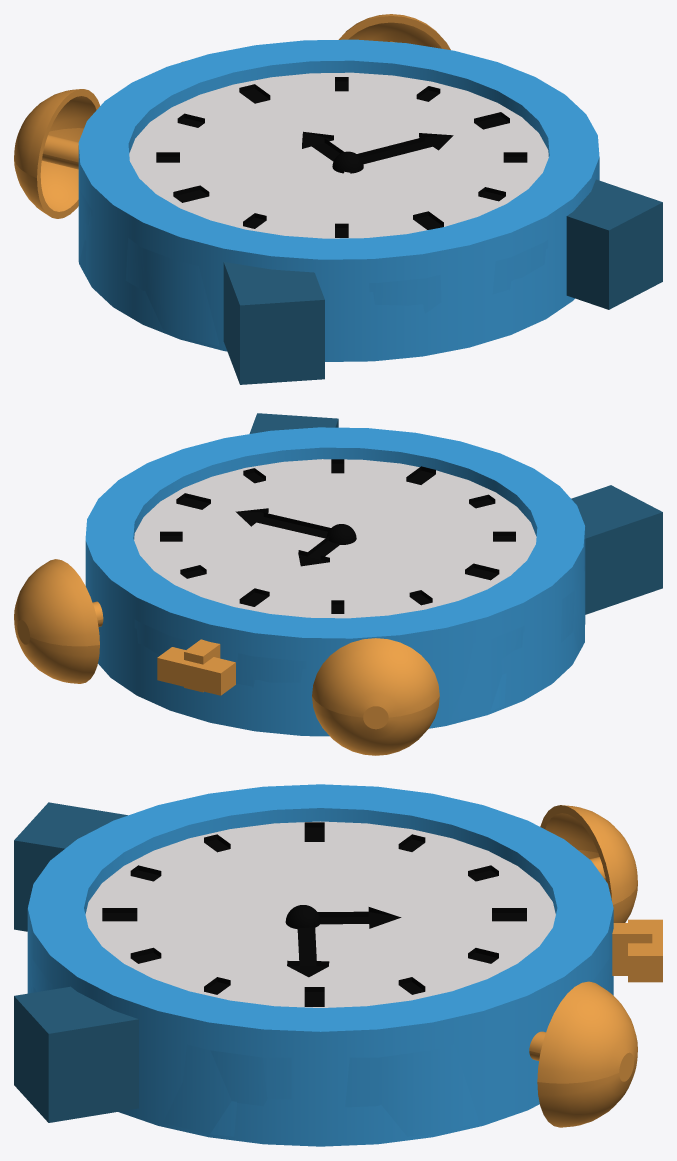
File: clock.fbx
3 views of the same model, one above another, from view 1: azimuth 30°, elevation 25°; view 2: azimuth 150°, elevation 25°; view 3: azimuth 270°, elevation 25° (orthographic). The views are drawn at different scales.
Parts seen in each view (by area): view 1: Circle; view 2: Circle; view 3: Circle.
Part boxes in pixels (left/top/right/bottom): Circle: left=14, top=14, right=662, bottom=384; Circle: left=14, top=413, right=662, bottom=755; Circle: left=14, top=784, right=662, bottom=1146.
Bounding box in the file's own units: 127 × 32.67 × 141.
